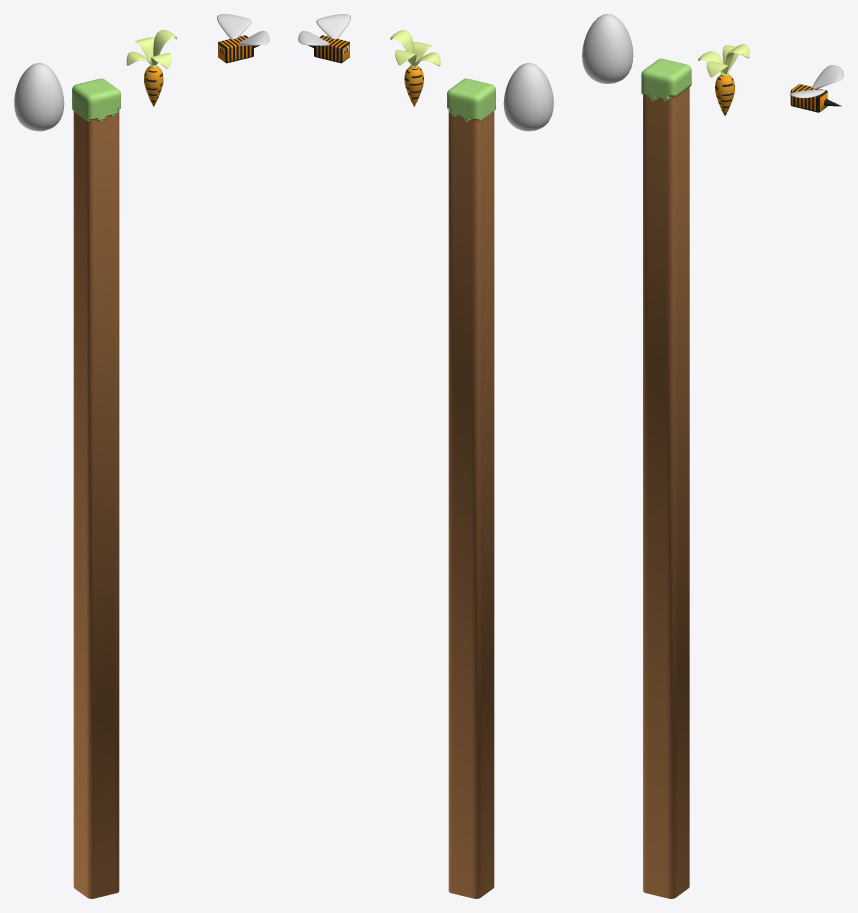
File: RabbitGameModels.fbx
3 renders of one model, left to right at view 1: azimuth 30°, elevation 25°; view 2: azimuth 150°, elevation 25°; view 3: azimuth 330°, elevation 25°, orthographic. The views are drawn at different scales.
Parts seen in each view (by area): view 1: Cube, Куб.003, Куб, Куб.002, Куб.001; view 2: Cube, Куб.003, Куб, Куб.002, Куб.001; view 3: Cube, Куб.003, Куб, Куб.001, Куб.002.
Boxes of the visible parts, <box> form: Cube: <box>72,78,120,898</box>; Куб.003: <box>14,63,64,131</box>; Куб: <box>126,29,176,106</box>; Куб.002: <box>217,14,269,45</box>; Куб.001: <box>218,35,259,63</box>; Cube: <box>447,78,495,898</box>; Куб.003: <box>503,63,553,131</box>; Куб: <box>390,30,440,106</box>; Куб.002: <box>298,14,350,45</box>; Куб.001: <box>308,35,349,63</box>; Cube: <box>641,58,691,898</box>; Куб.003: <box>582,14,633,83</box>; Куб: <box>698,44,749,115</box>; Куб.001: <box>790,84,841,112</box>; Куб.002: <box>790,65,843,98</box>.
Bounding box in the file's own units: 1614 × 5177 × 466.
